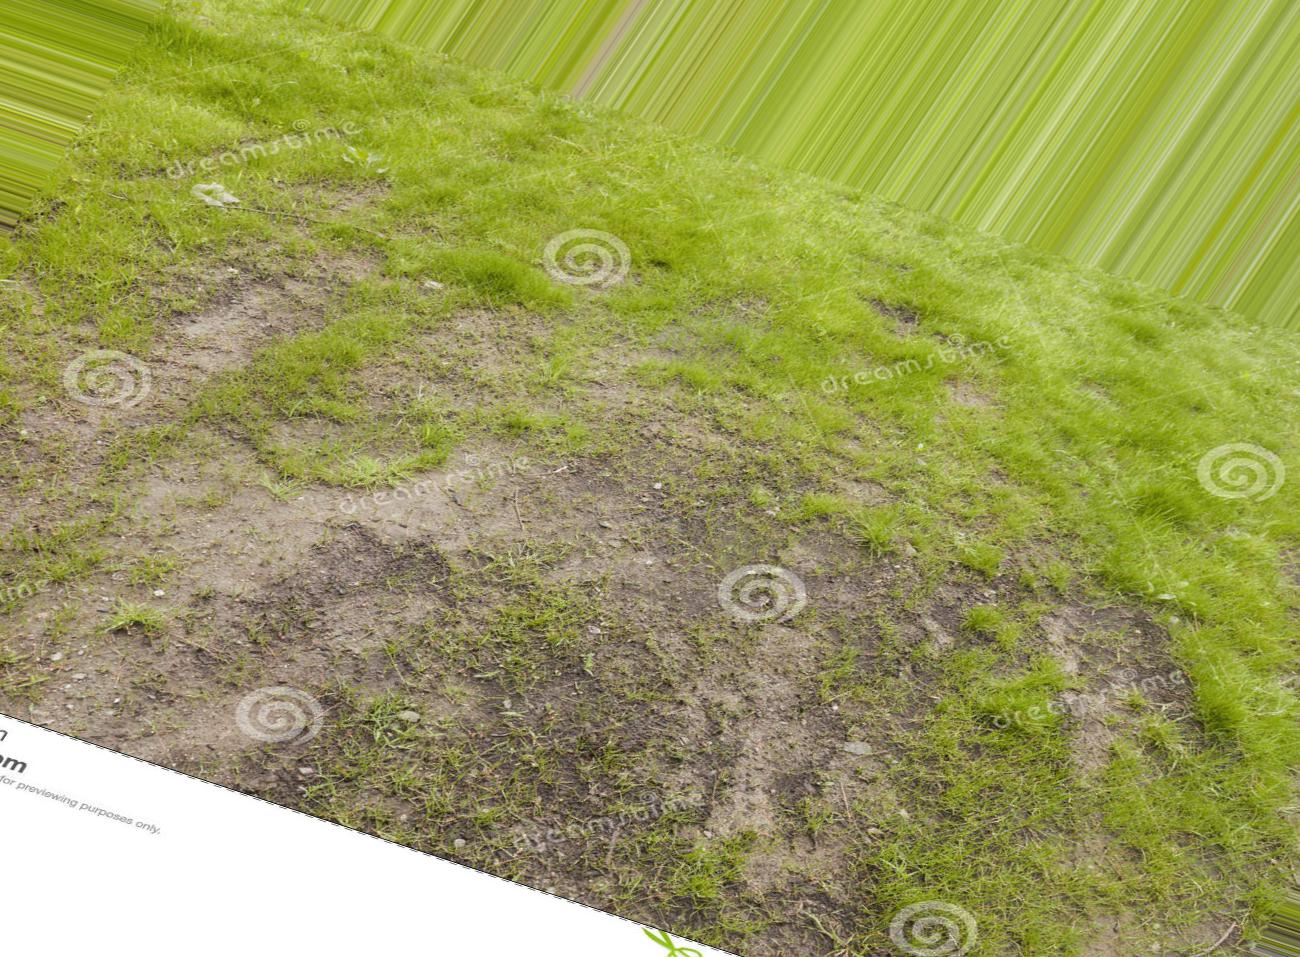patch: (578, 534, 927, 727), (291, 525, 522, 722), (100, 608, 227, 744), (203, 500, 298, 561), (1057, 627, 1149, 669)
